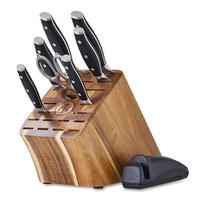knife: (9, 5, 130, 154)
